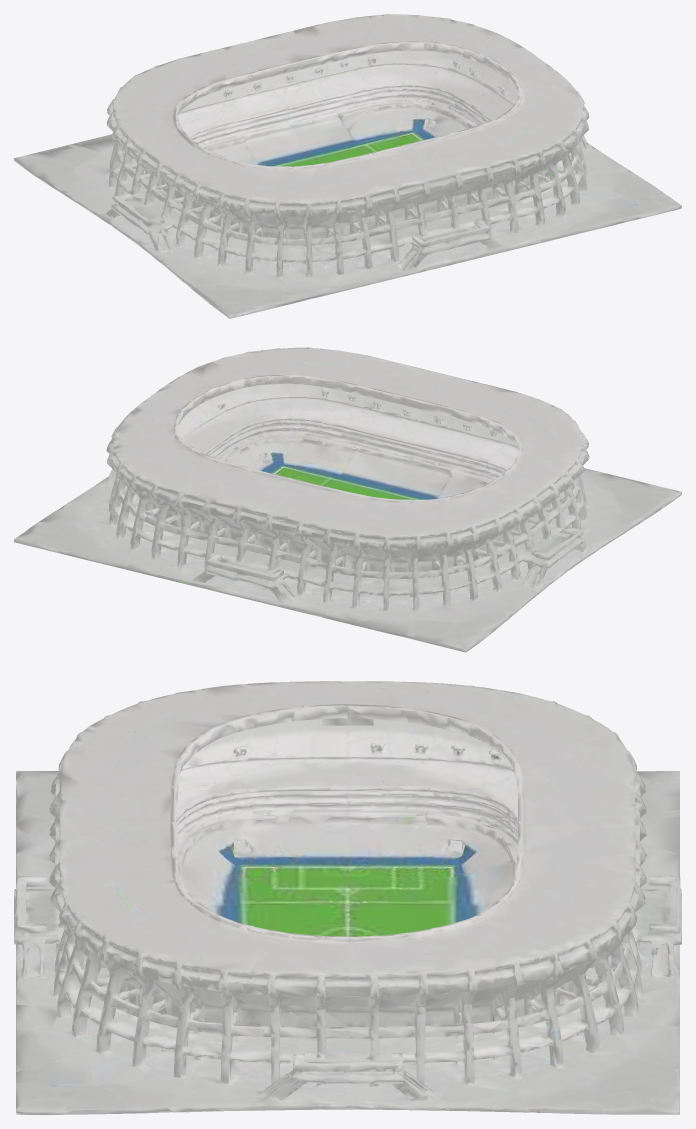
File: sf-azteca.glb
The picture shows the model from 3 angles, top to bottom: view 1: azimuth 30°, elevation 25°; view 2: azimuth 150°, elevation 25°; view 3: azimuth 270°, elevation 25°; orthographic projection. The views are drawn at different scales.
Visible parts, largest first — view 1: Object_8, Object_4, Object_6, Object_5, Object_9, Object_11, Object_7, Object_10, Object_14, Object_13, Object_12, Object_15; view 2: Object_12, Object_4, Object_5, Object_11, Object_14, Object_6, Object_7, Object_10, Object_8, Object_13, Object_15, Object_9; view 3: Object_4, Object_13, Object_8, Object_7, Object_10, Object_5, Object_14, Object_6, Object_11, Object_12, Object_9, Object_15.
Boxes of the visible parts, <box> form: Object_8: <box>112,26,681,318</box>; Object_4: <box>95,14,585,290</box>; Object_6: <box>115,14,589,275</box>; Object_5: <box>14,17,590,254</box>; Object_9: <box>209,126,638,303</box>; Object_11: <box>52,16,465,196</box>; Object_7: <box>110,23,662,271</box>; Object_10: <box>66,21,622,270</box>; Object_14: <box>146,82,628,281</box>; Object_13: <box>73,17,596,248</box>; Object_12: <box>21,16,387,186</box>; Object_15: <box>196,104,645,285</box>; Object_12: <box>14,467,501,652</box>; Object_4: <box>112,349,615,609</box>; Object_5: <box>81,357,589,652</box>; Object_11: <box>33,438,513,624</box>; Object_14: <box>187,357,629,551</box>; Object_6: <box>111,356,584,609</box>; Object_7: <box>59,351,587,595</box>; Object_10: <box>54,360,536,614</box>; Object_8: <box>107,348,681,594</box>; Object_13: <box>101,381,582,616</box>; Object_15: <box>221,351,635,522</box>; Object_9: <box>267,347,661,509</box>; Object_4: <box>14,682,679,1110</box>; Object_13: <box>236,681,570,1110</box>; Object_8: <box>14,681,673,1114</box>; Object_7: <box>16,699,679,1114</box>; Object_10: <box>113,687,595,1113</box>; Object_5: <box>16,681,680,1110</box>; Object_14: <box>117,686,295,1112</box>; Object_6: <box>14,681,673,1097</box>; Object_11: <box>505,696,679,1114</box>; Object_12: <box>558,721,681,1114</box>; Object_9: <box>65,708,194,1107</box>; Object_15: <box>119,694,197,1108</box>.
Size of the model in its own units: 1.9 by 0.3229 by 1.58.
1 material, 1 textured.
